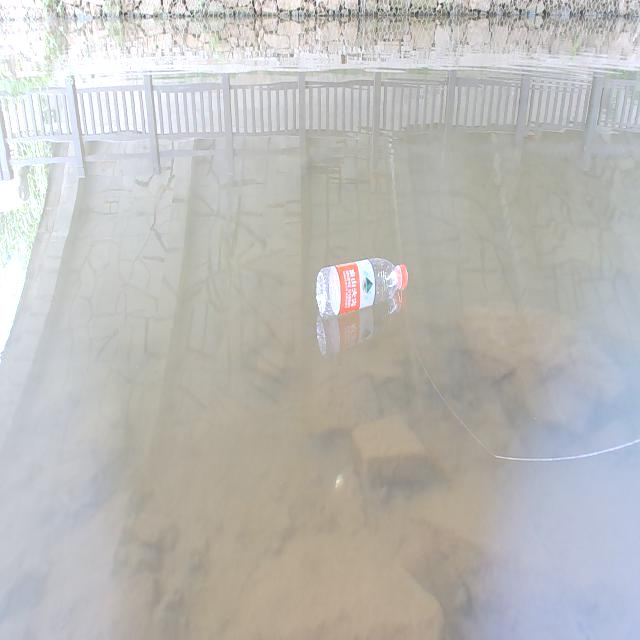bottle: (294, 223, 428, 350)
